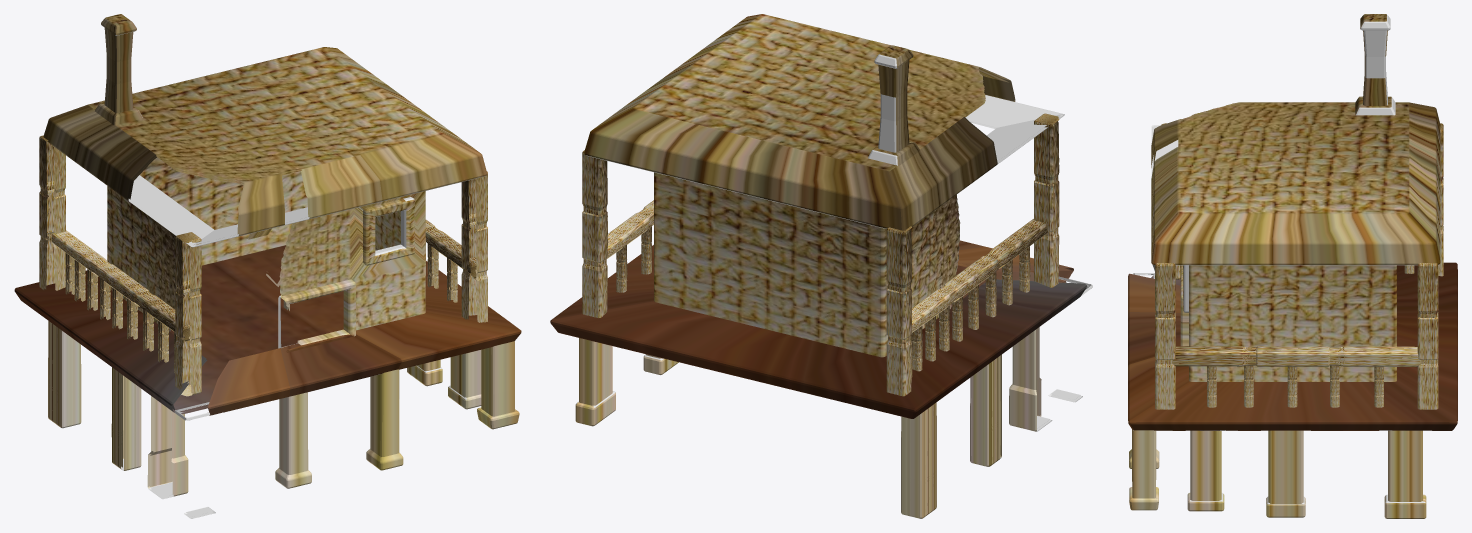
The model's file is House Indigena model3 (1).fbx.
The picture shows the model from 3 angles, left to right: view 1: azimuth 30°, elevation 25°; view 2: azimuth 150°, elevation 25°; view 3: azimuth 270°, elevation 25°; orthographic projection. The views are drawn at different scales.
Parts seen in each view (by area): view 1: Cube; view 2: Cube; view 3: Cube.
Part boxes in pixels (<box>): Cube: <box>14,14,521,518</box>; Cube: <box>550,14,1092,518</box>; Cube: <box>1128,14,1457,518</box>.
Size of the model in its own units: 8.35 by 9.53 by 7.3.
8 materials, 7 textured.
